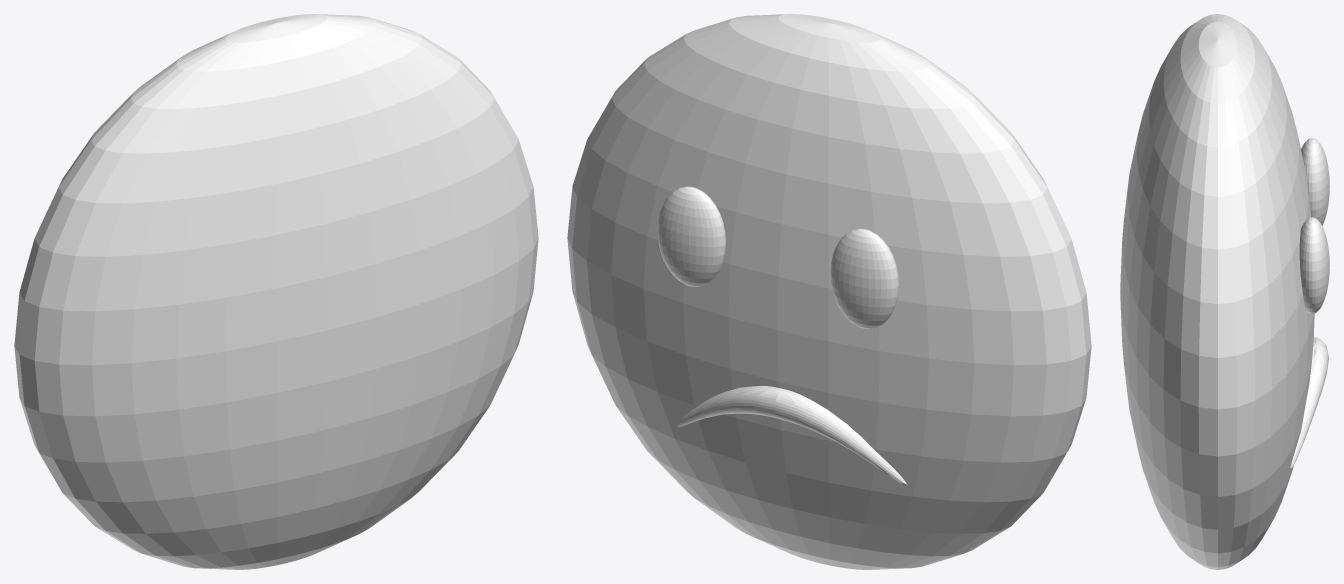
The model's file is AbsolutelySlump.obj.
3 views of the same model, side by side, from view 1: azimuth 30°, elevation 25°; view 2: azimuth 150°, elevation 25°; view 3: azimuth 270°, elevation 25° (orthographic). The views are drawn at different scales.
Visible parts, largest first — view 1: 球; view 2: 球, 球.002, 球.001, 球.003; view 3: 球, 球.001, 球.002, 球.003.
Boxes of the visible parts, left/top/right/bottom form: 球: left=14, top=14, right=538, bottom=569; 球: left=567, top=14, right=1091, bottom=569; 球.002: left=830, top=228, right=898, bottom=328; 球.001: left=657, top=186, right=725, bottom=286; 球.003: left=677, top=386, right=907, bottom=485; 球: left=1120, top=14, right=1314, bottom=569; 球.001: left=1299, top=217, right=1329, bottom=313; 球.002: left=1301, top=138, right=1329, bottom=225; 球.003: left=1290, top=336, right=1328, bottom=469.
Bounding box in the file's own units: 2 × 2 × 0.7536.
